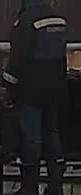vest: (9, 6, 68, 110)
